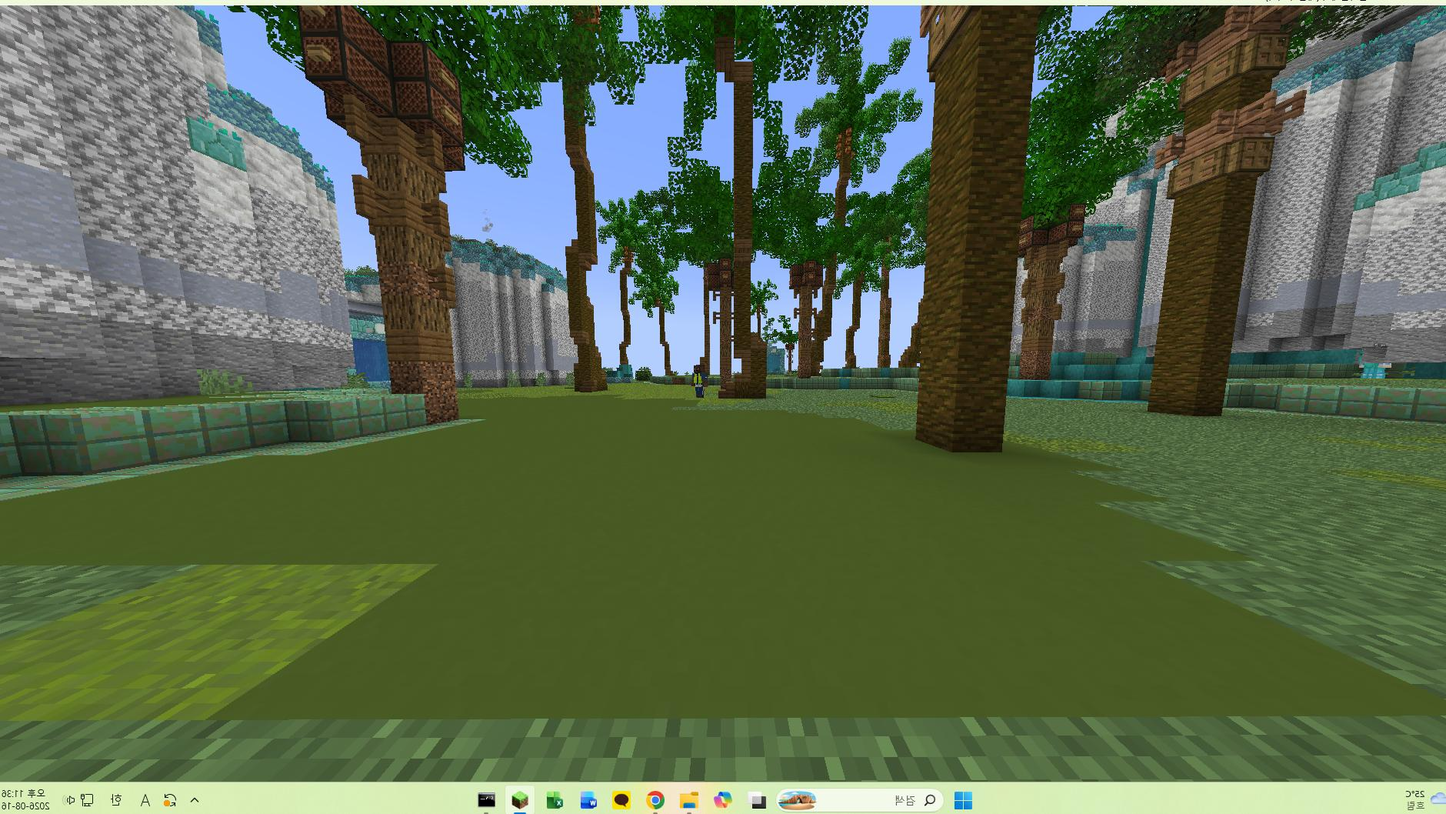Guardian: (692, 352, 715, 402)
